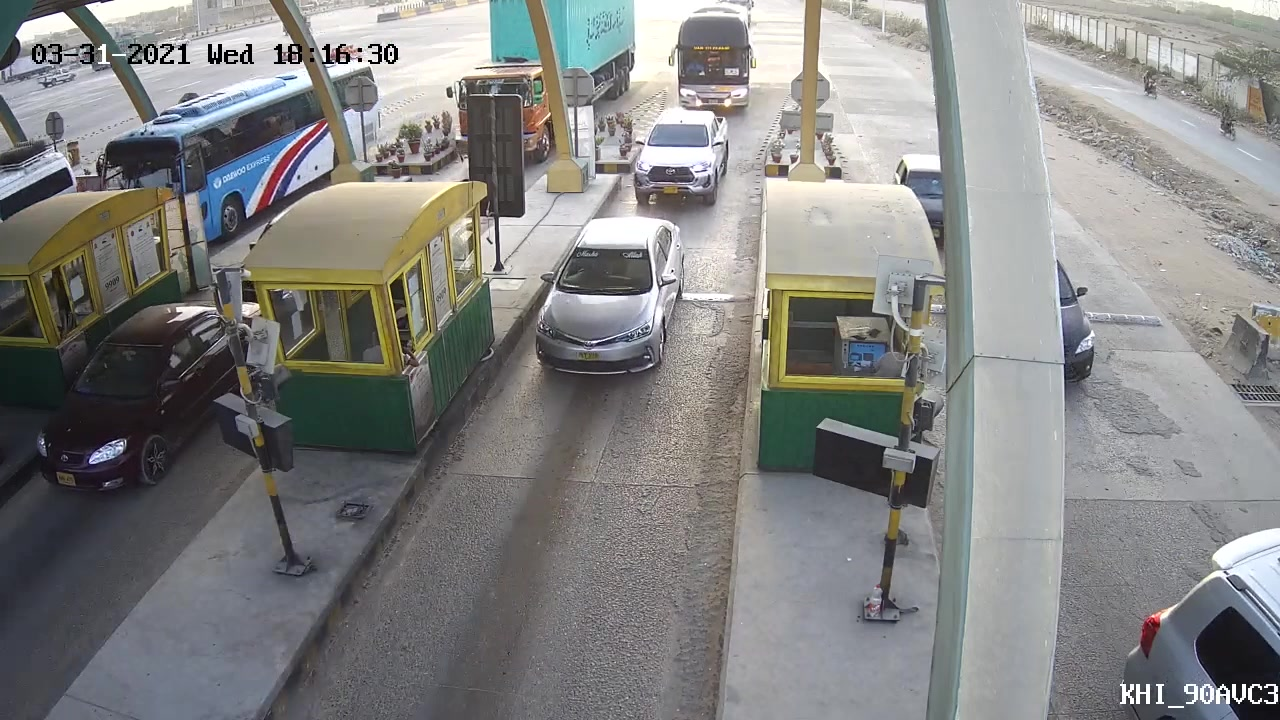F1: (526, 211, 688, 383), (627, 103, 735, 209)
